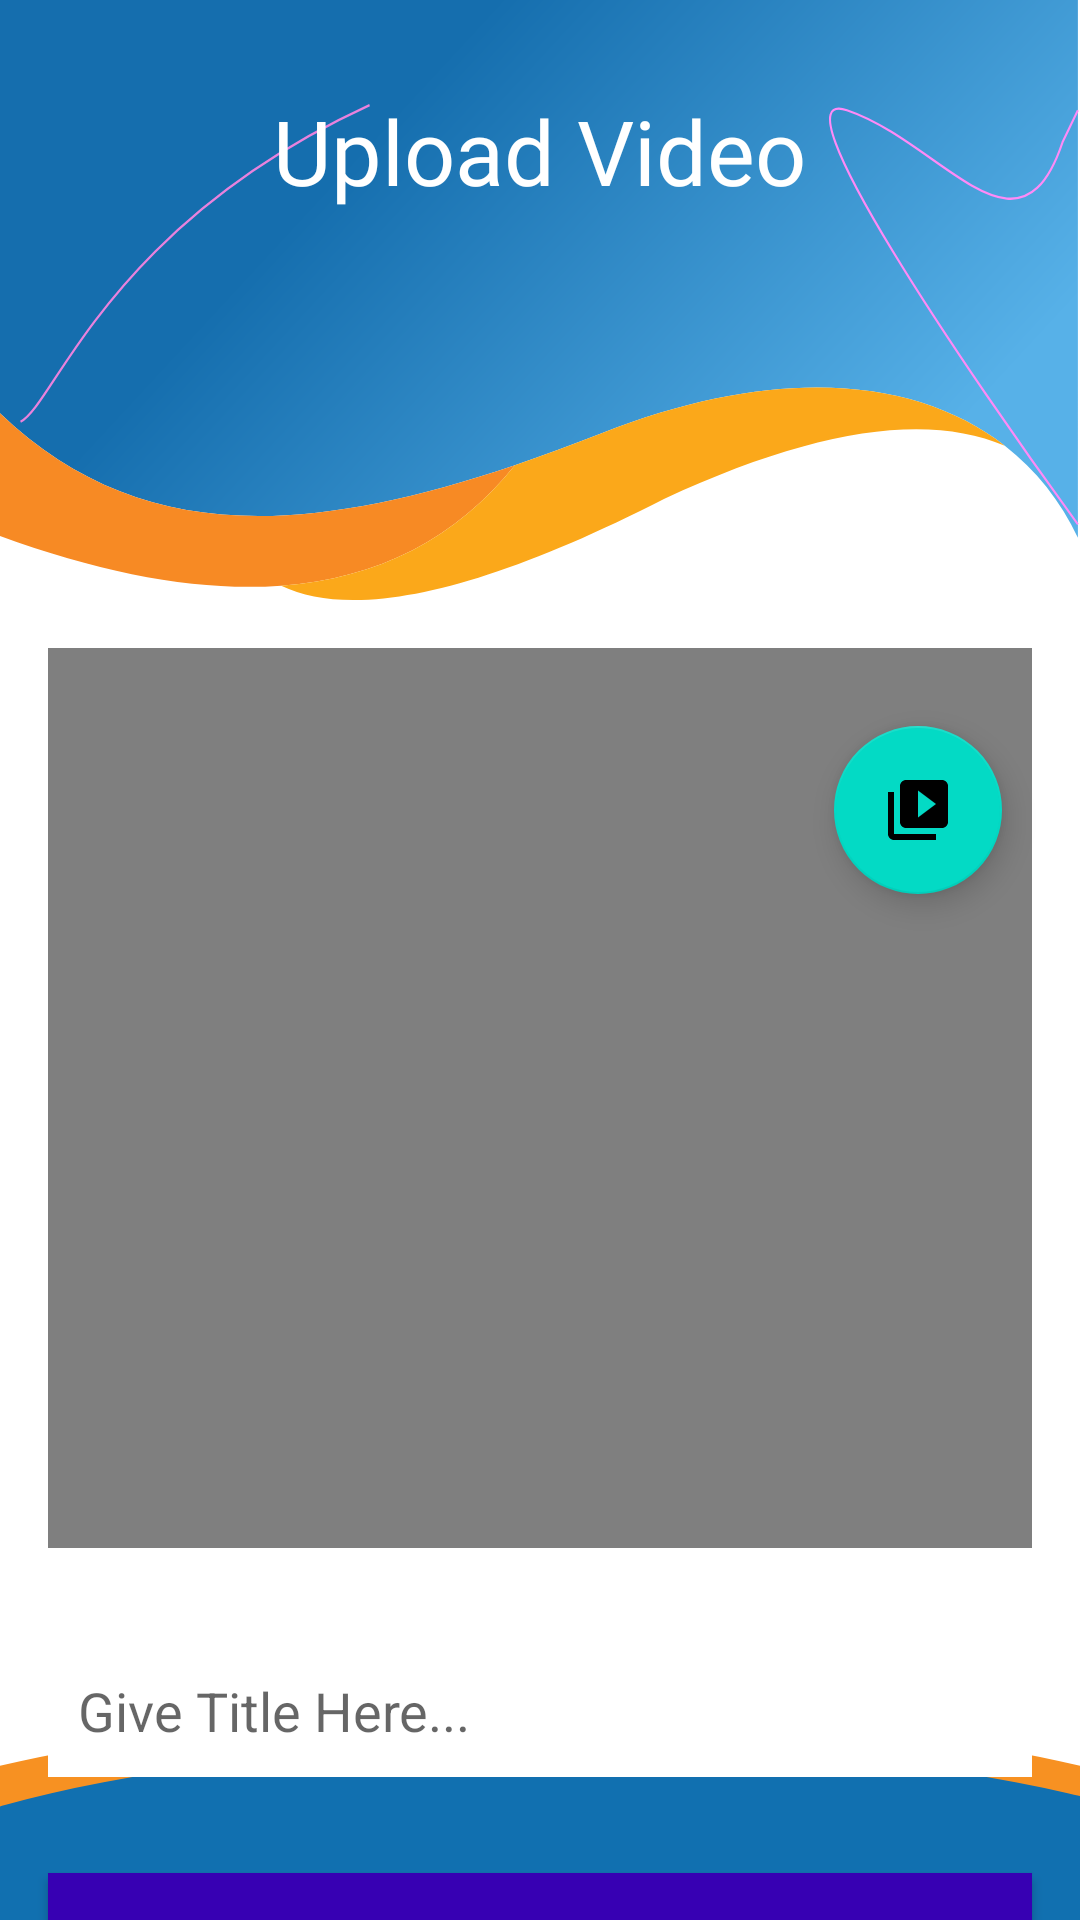

Named icons in this screenshot (1080w x 1920h) and their centers, [x,y]:
video: [918,810]
